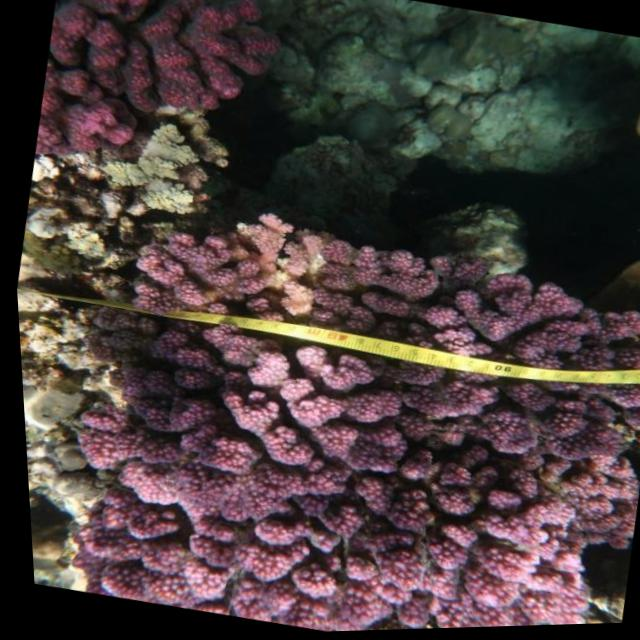Healthy Coral: (18, 183, 640, 640), (26, 0, 287, 194)
